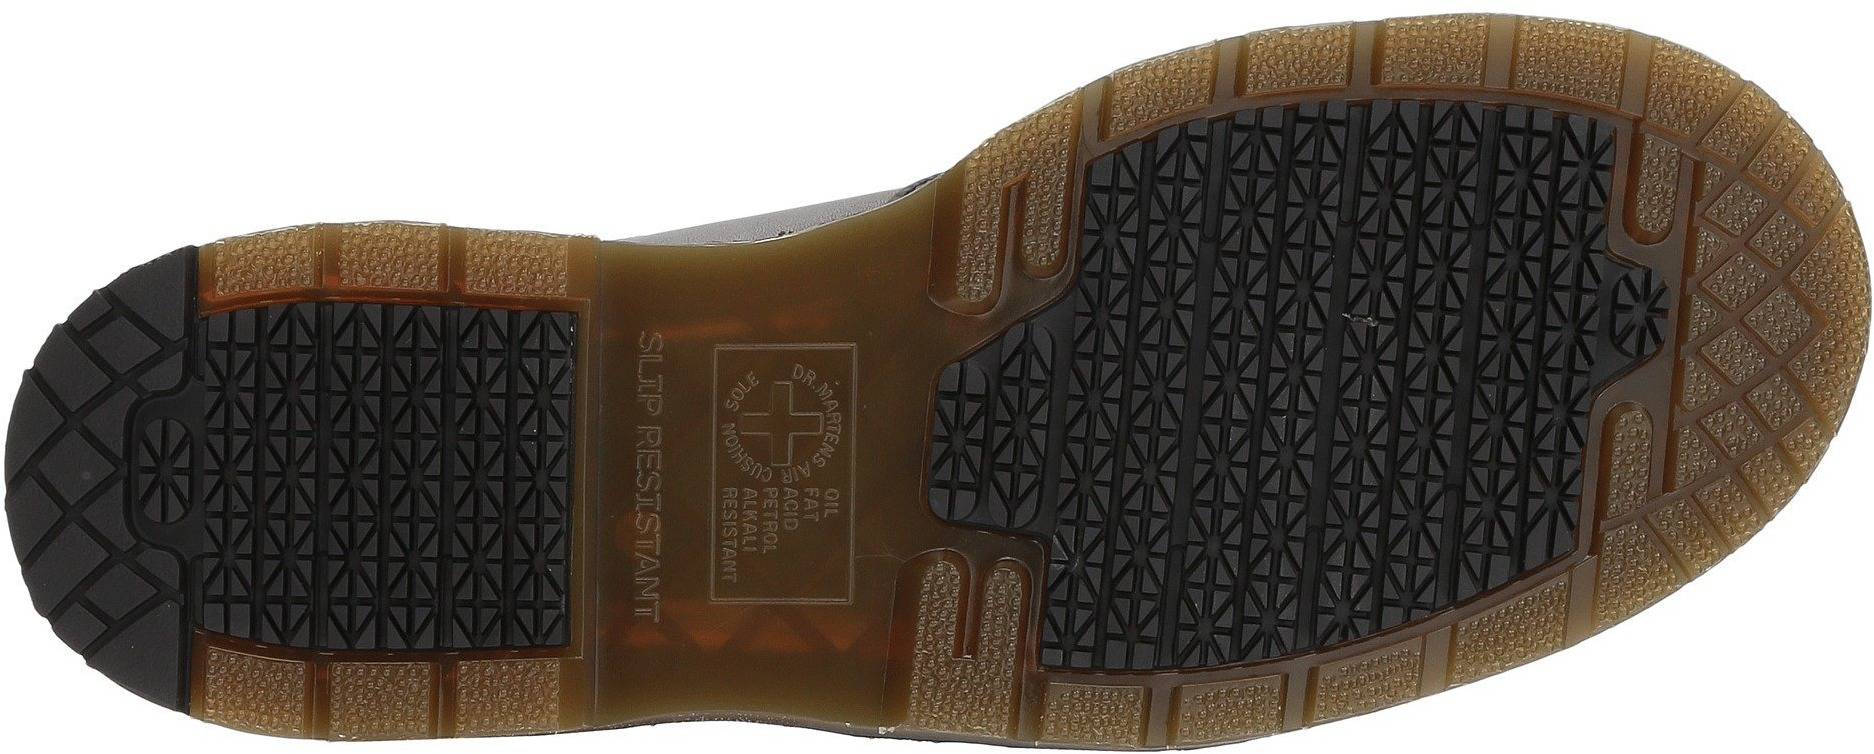exclude: (561, 140, 953, 750)
quad: (1695, 229, 1799, 390), (1506, 2, 1641, 118), (1235, 22, 1360, 100), (27, 418, 123, 517)
triangle: (1146, 351, 1372, 574), (1294, 121, 1504, 343), (1094, 143, 1286, 344), (206, 325, 417, 507), (951, 348, 1138, 528), (1379, 353, 1556, 520), (419, 325, 572, 494), (207, 513, 353, 652), (365, 511, 507, 646)
